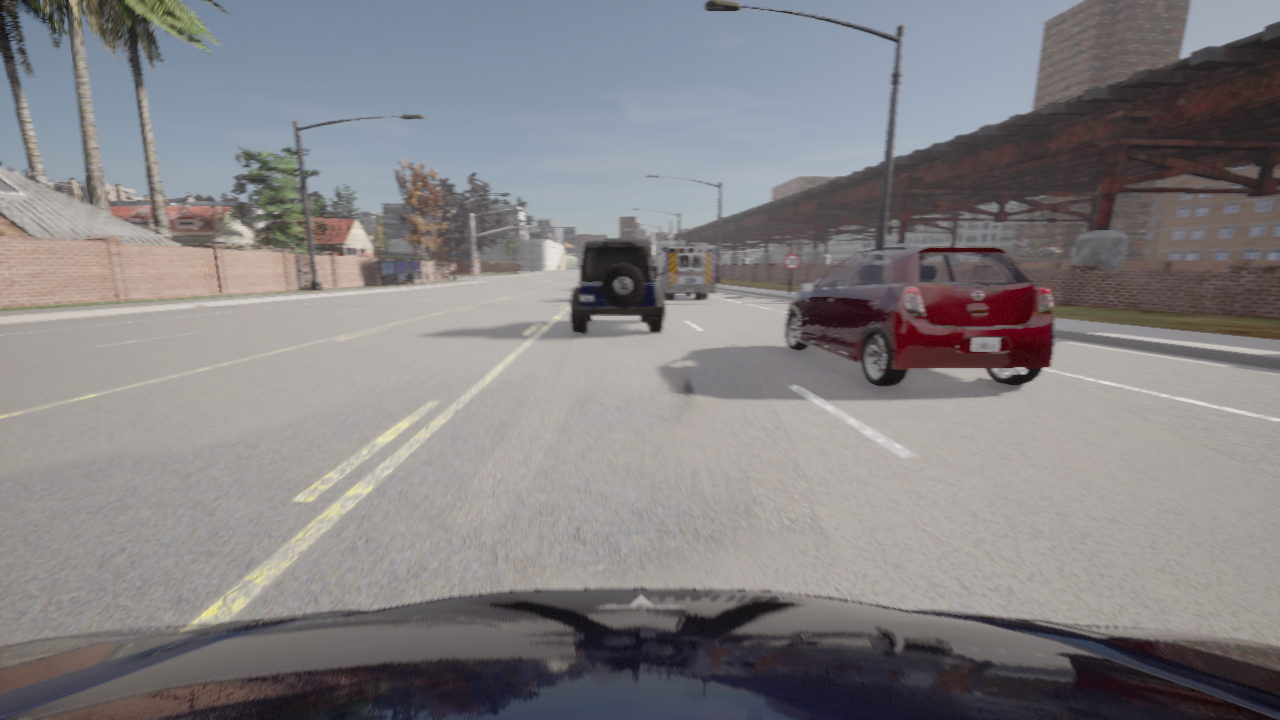cyclist: (0, 588, 1279, 719), (785, 246, 1054, 386), (570, 239, 664, 332), (655, 245, 715, 298), (654, 263, 656, 281)
